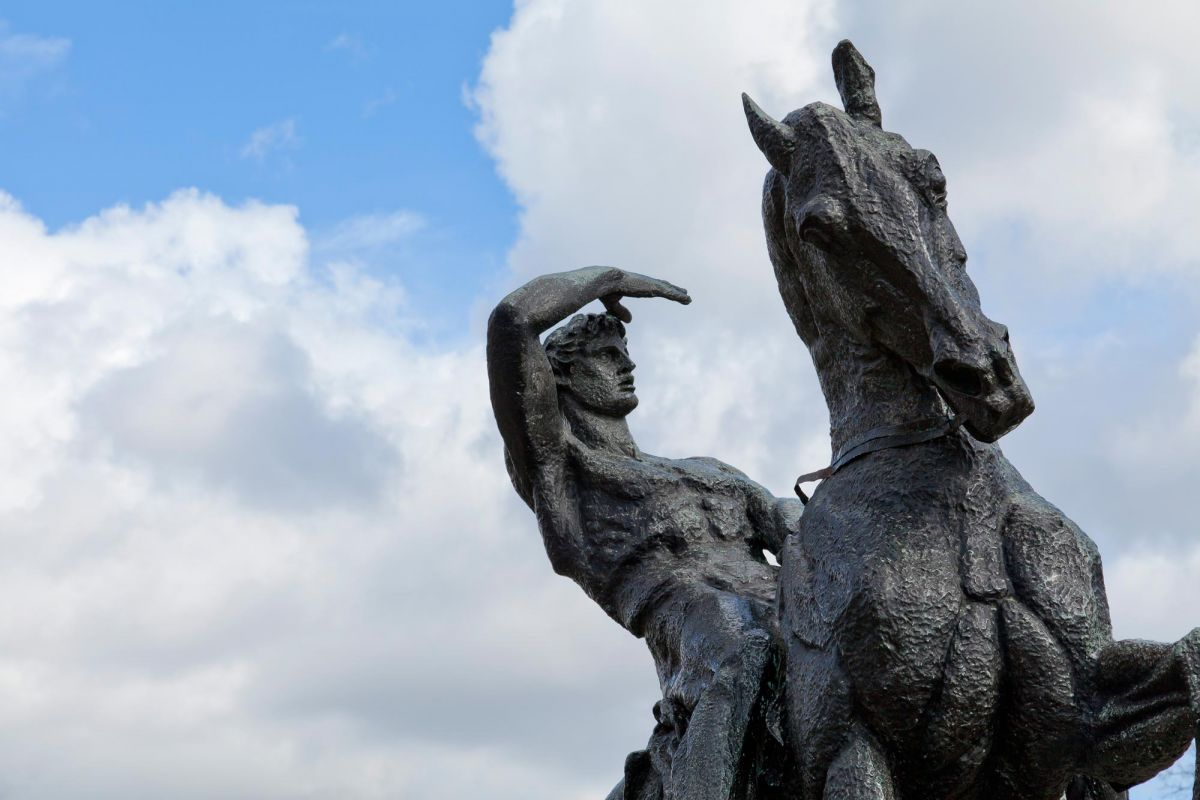person-like: (475, 249, 881, 800)
